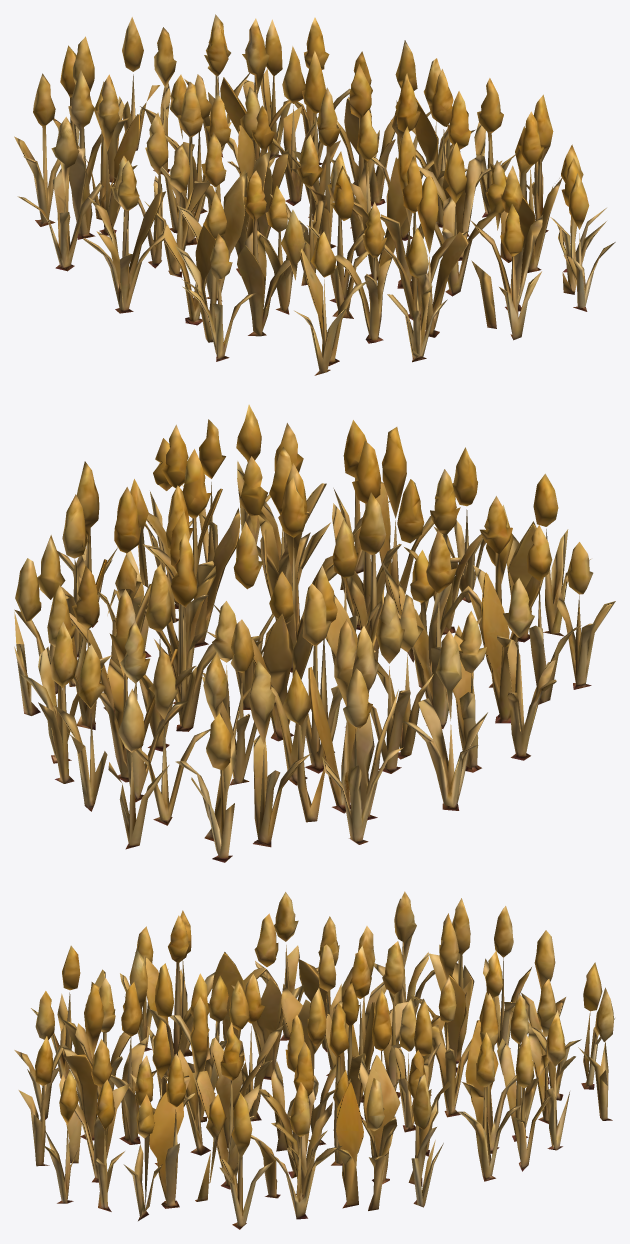
Rendered from wheat_field.glb.
The picture shows the model from 3 angles, top to bottom: view 1: azimuth 30°, elevation 25°; view 2: azimuth 150°, elevation 25°; view 3: azimuth 270°, elevation 25°; orthographic projection. The views are drawn at different scales.
Visible parts, largest first — view 1: tripo_node_3798ca25-f90c-4561-a580-378c920b520b; view 2: tripo_node_3798ca25-f90c-4561-a580-378c920b520b; view 3: tripo_node_3798ca25-f90c-4561-a580-378c920b520b.
Part boxes in pixels (bbox=[...]): tripo_node_3798ca25-f90c-4561-a580-378c920b520b: bbox=[14, 14, 615, 375]; tripo_node_3798ca25-f90c-4561-a580-378c920b520b: bbox=[14, 404, 615, 862]; tripo_node_3798ca25-f90c-4561-a580-378c920b520b: bbox=[14, 891, 614, 1229].
Bounding box in the file's own units: 0.8511 × 0.3026 × 1.
1 material, 1 textured.
